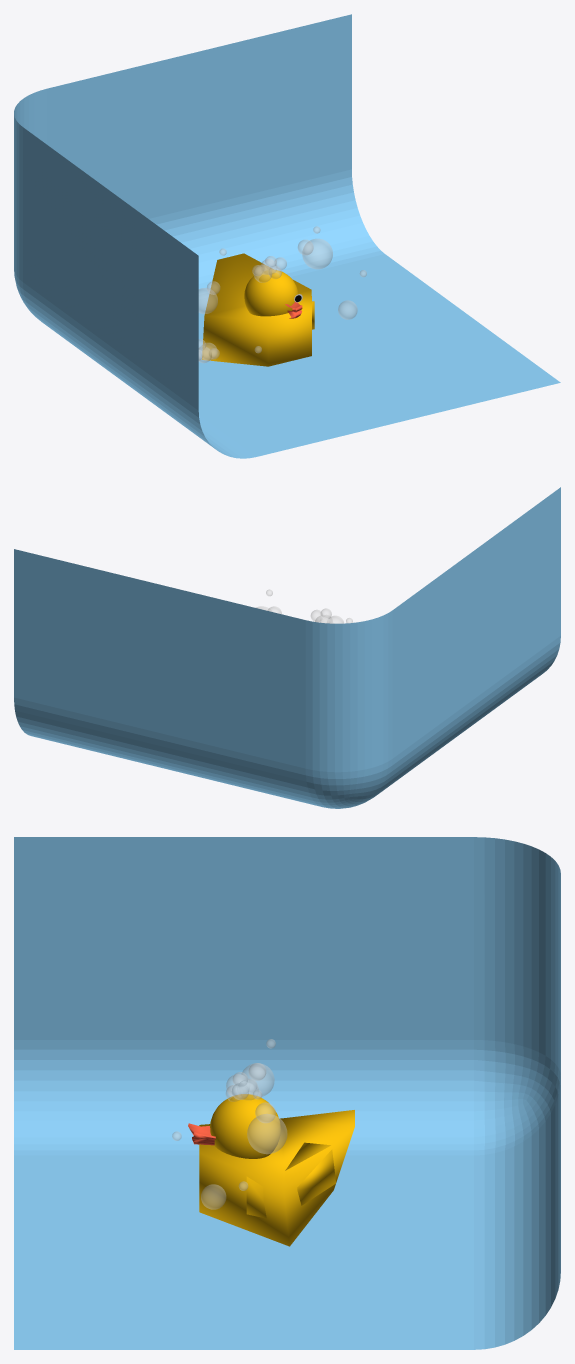
File: duckcop.glb
The picture shows the model from 3 angles, top to bottom: view 1: azimuth 30°, elevation 25°; view 2: azimuth 150°, elevation 25°; view 3: azimuth 270°, elevation 25°; orthographic projection. The views are drawn at different scales.
Parts seen in each view (by area): view 1: 平面, Cube, 球, 球.001; view 2: 平面; view 3: 平面, Cube, 球, 立方体, 球.001, 球.003.
Part boxes in pixels (<box>): 平面: <box>14,14,560,458</box>; Cube: <box>202,253,311,366</box>; 球: <box>244,269,298,316</box>; 球.001: <box>302,239,332,268</box>; 平面: <box>14,487,560,808</box>; 平面: <box>14,837,560,1349</box>; Cube: <box>199,1110,354,1246</box>; 球: <box>210,1094,280,1158</box>; 立方体: <box>246,1142,335,1218</box>; 球.001: <box>247,1114,287,1153</box>; 球.003: <box>242,1063,274,1096</box>.
Size of the model in its own units: 8.33 by 4.73 by 8.33.
